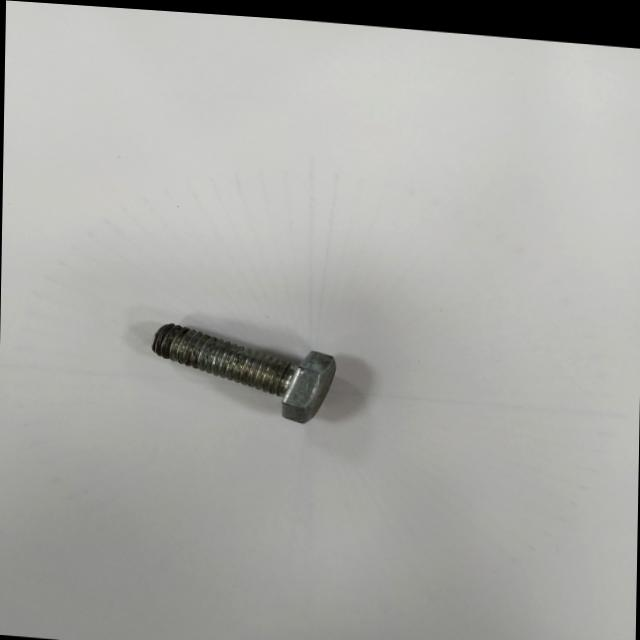Bolt: (151, 321, 335, 418)
